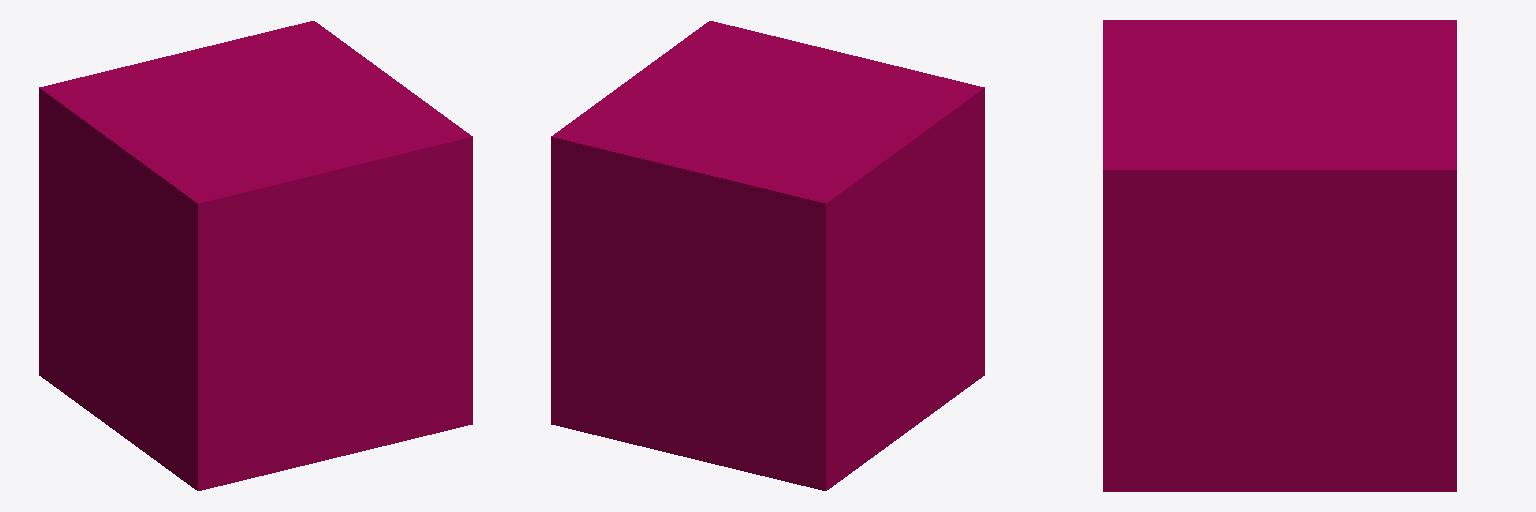
The robot description file, URDF, robot "cube":
<?xml version="0.0" ?>
<robot name="cube">
  <link name="cube">
    <contact>
      <lateral_friction value="0.7"/>
      <rolling_friction value="0.0"/>
      <contact_cfm value="0.0"/>
      <contact_erp value="0.1"/>
    </contact>
    <inertial>
      <origin rpy="0 0 0" xyz="0 0 0"/>
       <mass value=".01"/>
       <inertia ixx=".01" ixy="0" ixz="0" iyy=".01" iyz="0" izz=".01"/>
    </inertial>
    <visual>
      <origin rpy="0 0 0" xyz="0.0 0.0 0.0"/>
      <geometry>
        <box size="0.05 0.05 0.05"/>
      </geometry>
      <material name="desert sand">
        <color rgba="0.67 0.04 0.365 1" />
      </material>
    </visual>
    <collision>
      <origin rpy="0 0 0" xyz="0.0 0.0 0.0"/>
      <geometry>
        <box size="0.05 0.05 0.05"/>
      </geometry>
    </collision>
  </link>


</robot>

--- What the picture shows (computed from the rendered views, not written in the file) ---
The picture shows the robot from 3 angles, left to right: view 1: azimuth 30°, elevation 25°; view 2: azimuth 150°, elevation 25°; view 3: azimuth 270°, elevation 25°; orthographic projection.
Model cube with 1 links and 0 joints (none), rooted at cube, posed every joint at zero.
Visible links, largest first — view 1: cube; view 2: cube; view 3: cube.
Boxes of the visible links, x1,y1,x2,y2 form: cube: [39, 21, 472, 490]; cube: [551, 21, 984, 490]; cube: [1103, 20, 1456, 491].
Bounding box of the posed robot: 0.05 × 0.05 × 0.05 m (x, y, z).
Geometry: primitives only (box / cylinder / sphere), no mesh files.